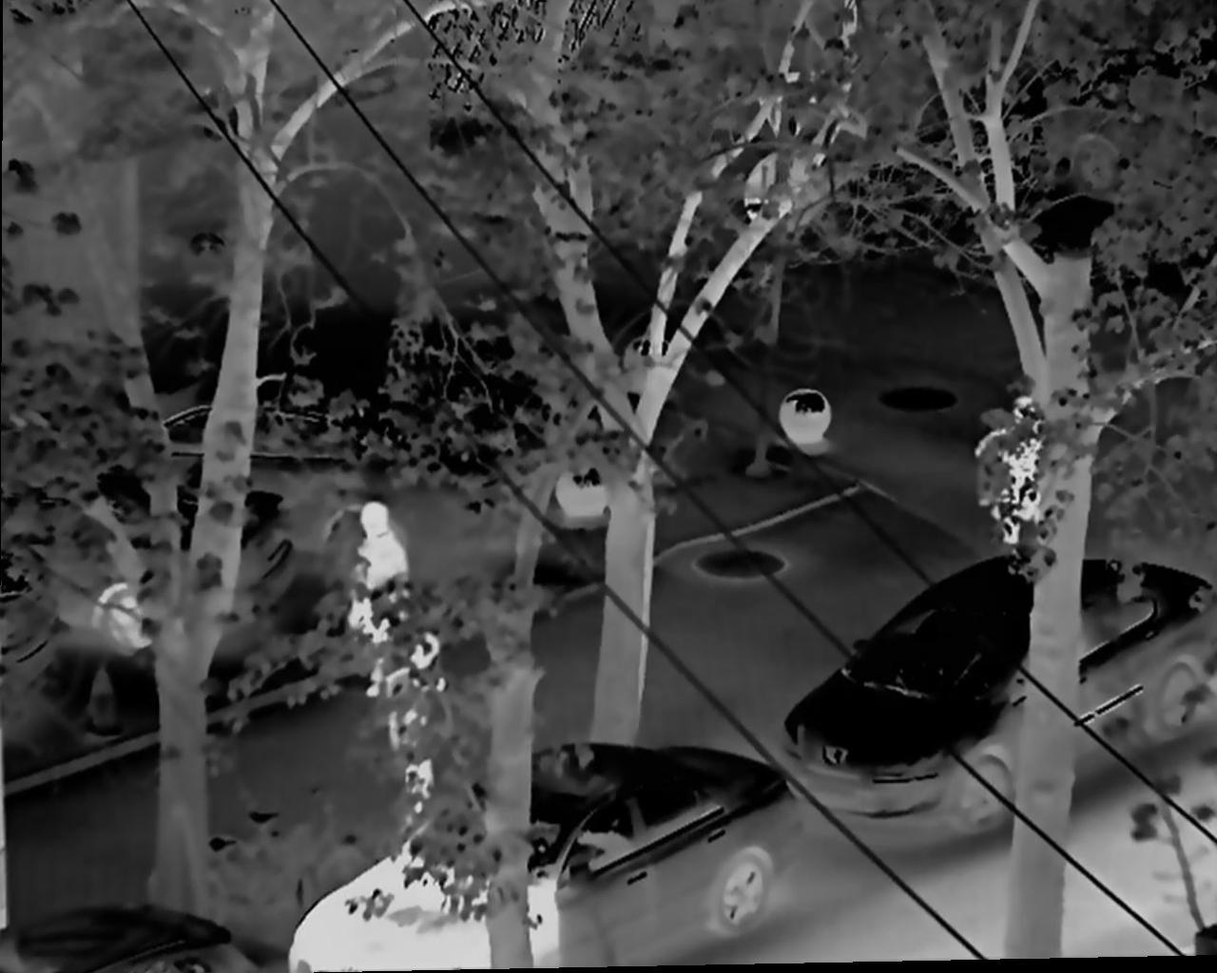person: (978, 397, 1056, 579), (338, 496, 403, 707), (380, 623, 441, 840)
